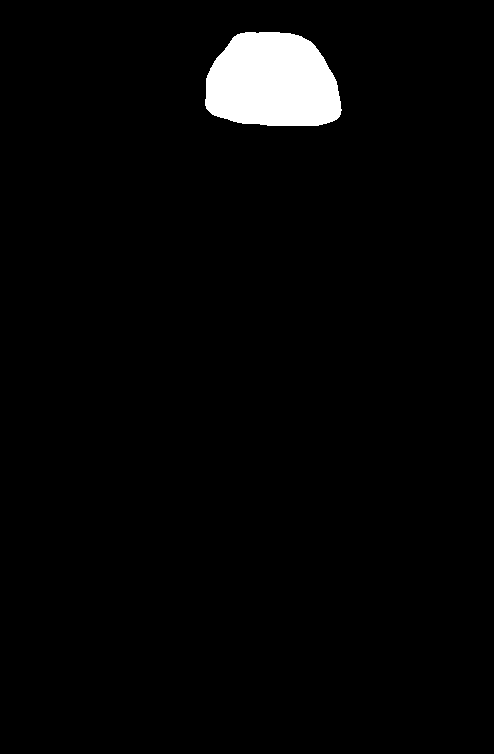veins_detect: (193, 26, 346, 138)
veins_seg: (206, 33, 341, 126)
